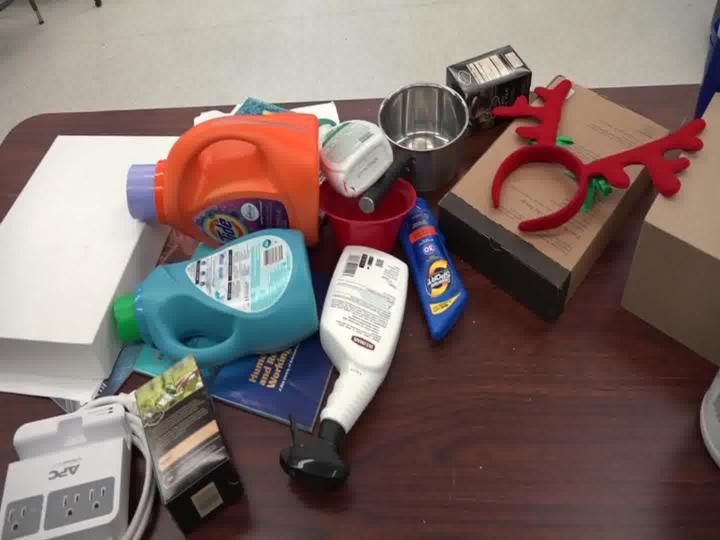tide: (118, 90, 332, 250)
